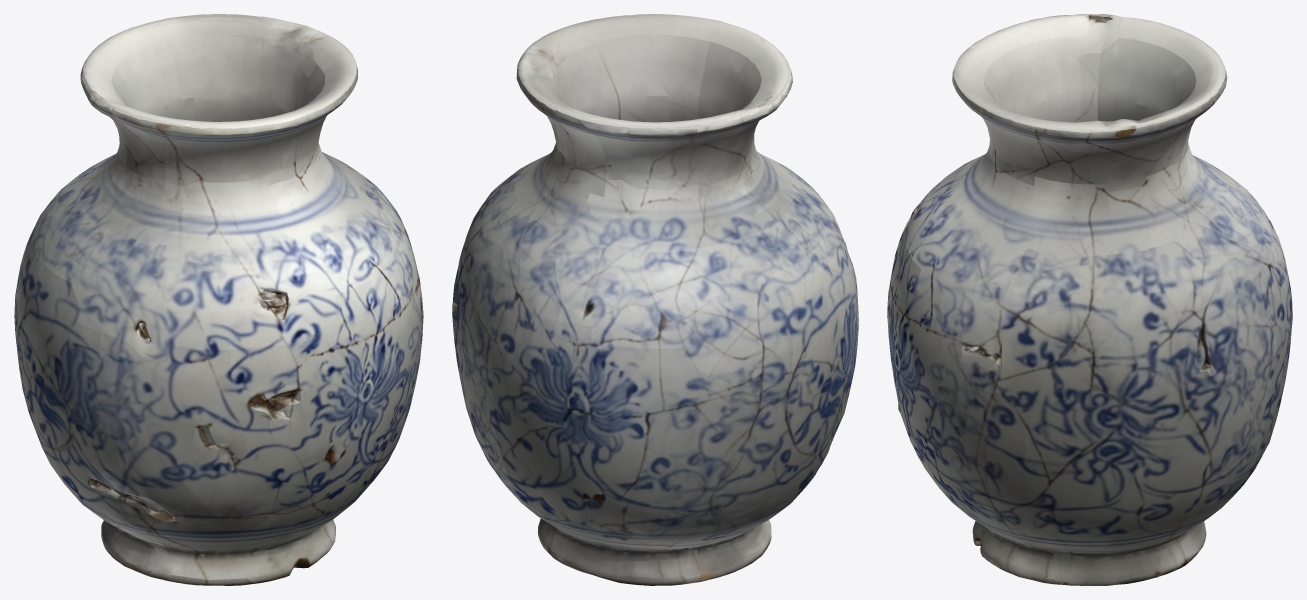
Rendered from cracked-vase.glb.
3 renders of one model, left to right at view 1: azimuth 30°, elevation 25°; view 2: azimuth 150°, elevation 25°; view 3: azimuth 270°, elevation 25°, orthographic.
Parts seen in each view (by area): view 1: geometry_0; view 2: geometry_0; view 3: geometry_0.
Part boxes in pixels (x1,y1,x2,y2): geometry_0: [14, 14, 423, 585]; geometry_0: [452, 14, 858, 585]; geometry_0: [887, 14, 1292, 585].
Size of the model in its own units: 0.1262 by 0.16 by 0.125.
Materials: 1 (1 with a texture image).
